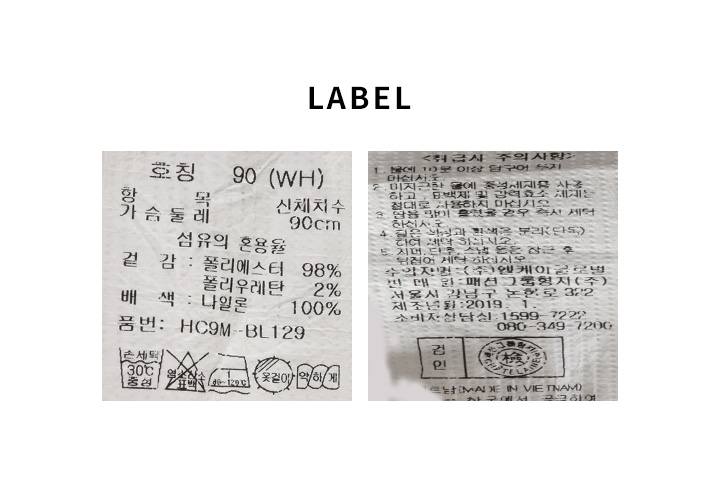KR_gentle_wring: (295, 359, 342, 393)
KR_hand_wash_30_neutral: (117, 345, 165, 392)
KR_hang_dry_in_shade: (251, 353, 294, 393)
KR_iron_low_temp_with_cloth: (209, 350, 253, 397)
KR_no_bleach: (166, 348, 207, 395)
